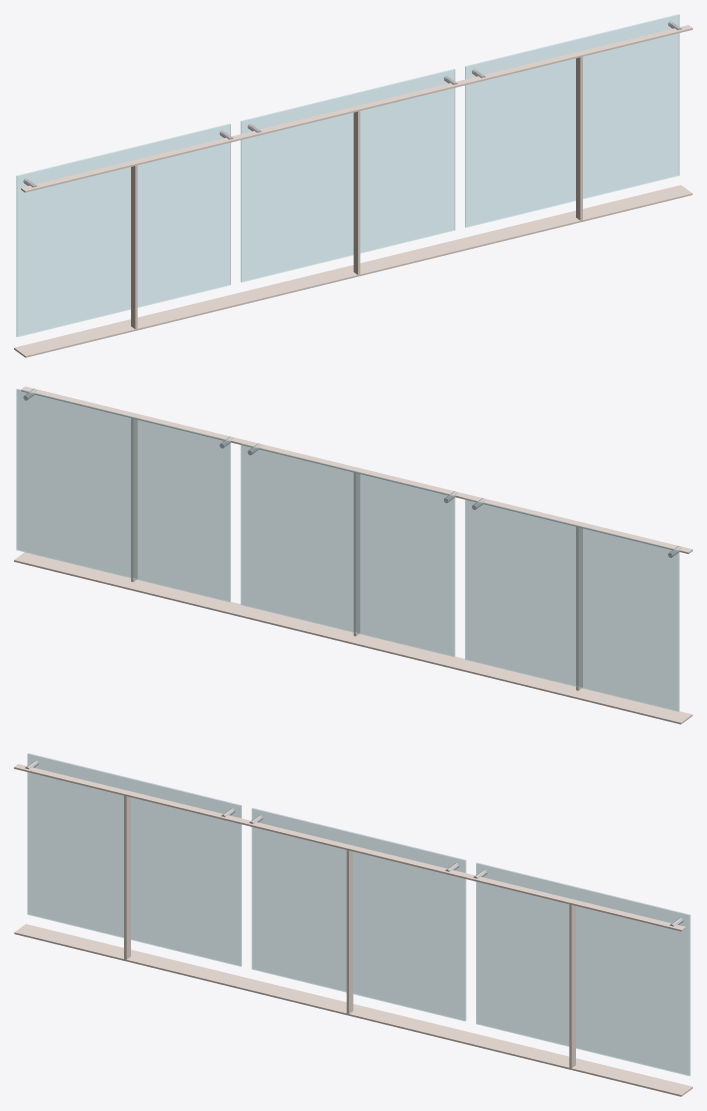
The model's file is Handrail.fbx.
3 renders of one model, top to bottom at view 1: azimuth 30°, elevation 25°; view 2: azimuth 150°, elevation 25°; view 3: azimuth 330°, elevation 25°, orthographic.
Parts seen in each view (by area): view 1: Cube.002, Cube.001; view 2: Cube.002, Cube.001; view 3: Cube.002, Cube.001.
Boxes of the visible parts, x1,y1,x2,y2 form: Cube.002: (16,14,679,337); Cube.001: (14,25,692,357); Cube.002: (16,388,679,711); Cube.001: (14,386,692,724); Cube.002: (27,753,690,1076); Cube.001: (14,764,692,1096).
Size of the model in its own units: 699 by 173 by 21.04.
